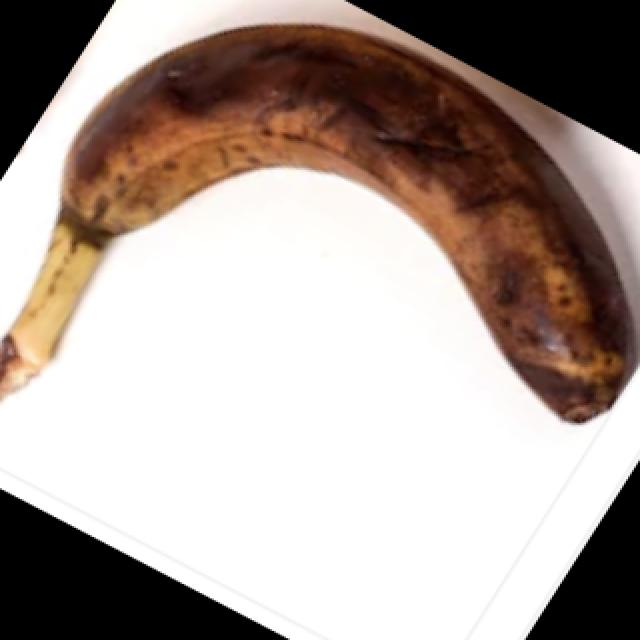Rotten: (1, 24, 638, 424)
